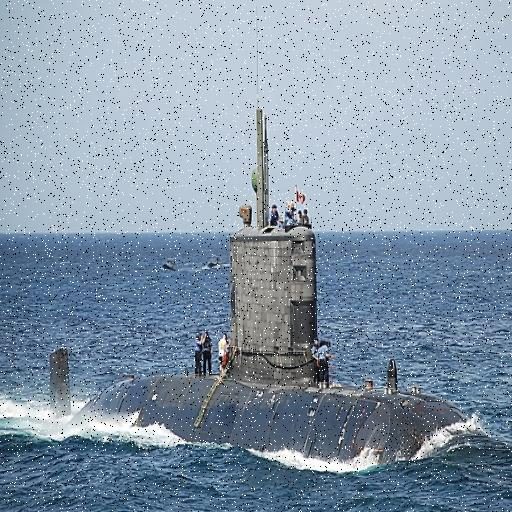submarine: (27, 111, 511, 458)
